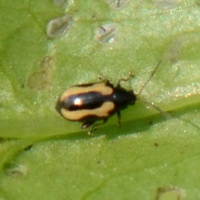insect: (56, 74, 135, 127)
